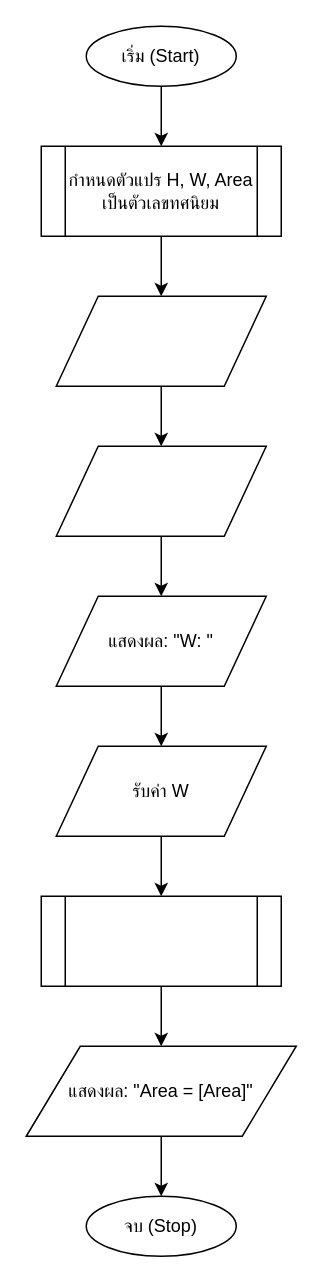
Image size: 323x1283. Some labels were removed from this diagram. Each missing label, with the centre of its shape:
คำนวณ: Area = (H * W) / 2: point (160, 940)
รับค่า H: point (160, 490)
แสดงผล: "H: ": point (160, 340)
